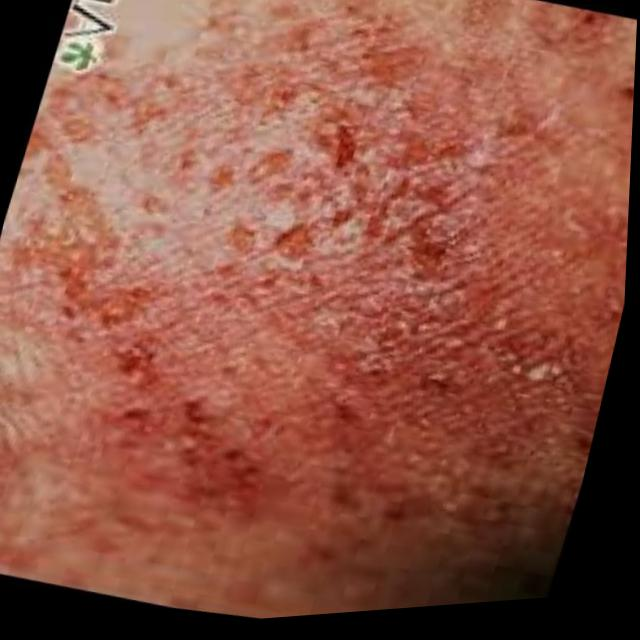Eczema: (48, 13, 580, 585)
